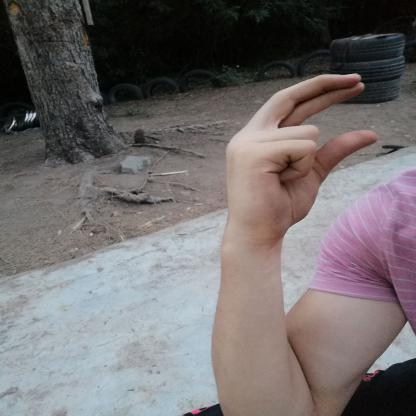DHELL: (206, 59, 389, 242)
